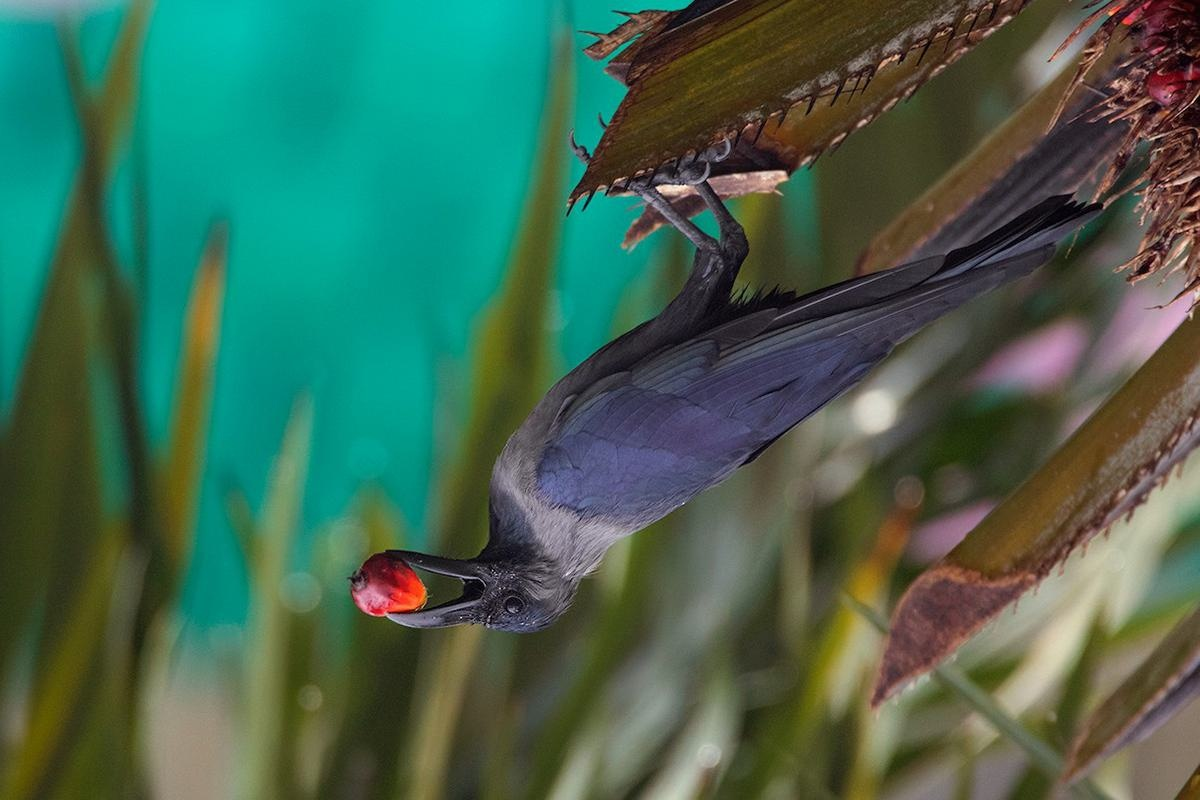crow: (349, 150, 1086, 642)
